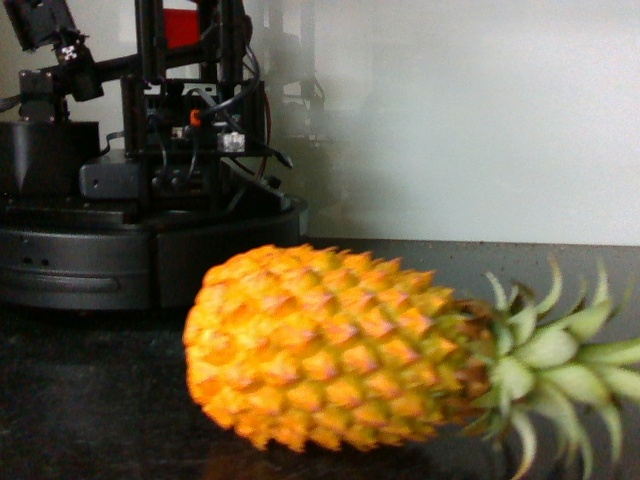pineapple: (175, 229, 640, 458)
